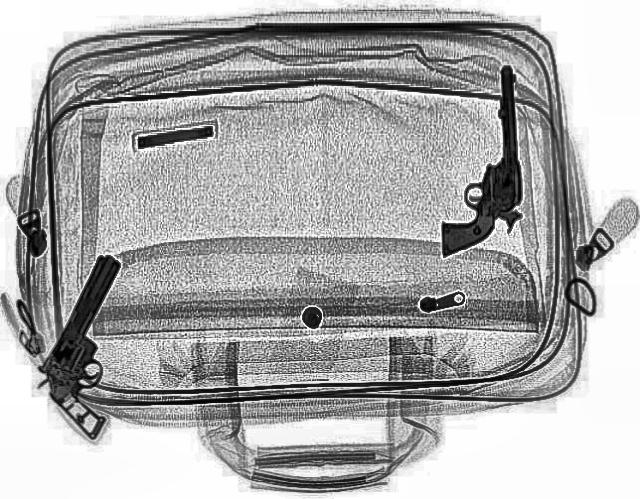Gun: (14, 252, 180, 440), (430, 63, 524, 254)
